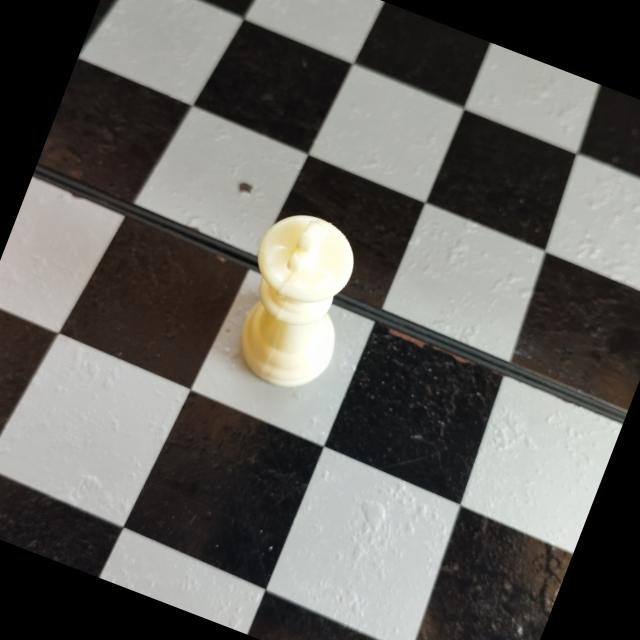White King: (201, 193, 389, 420)
